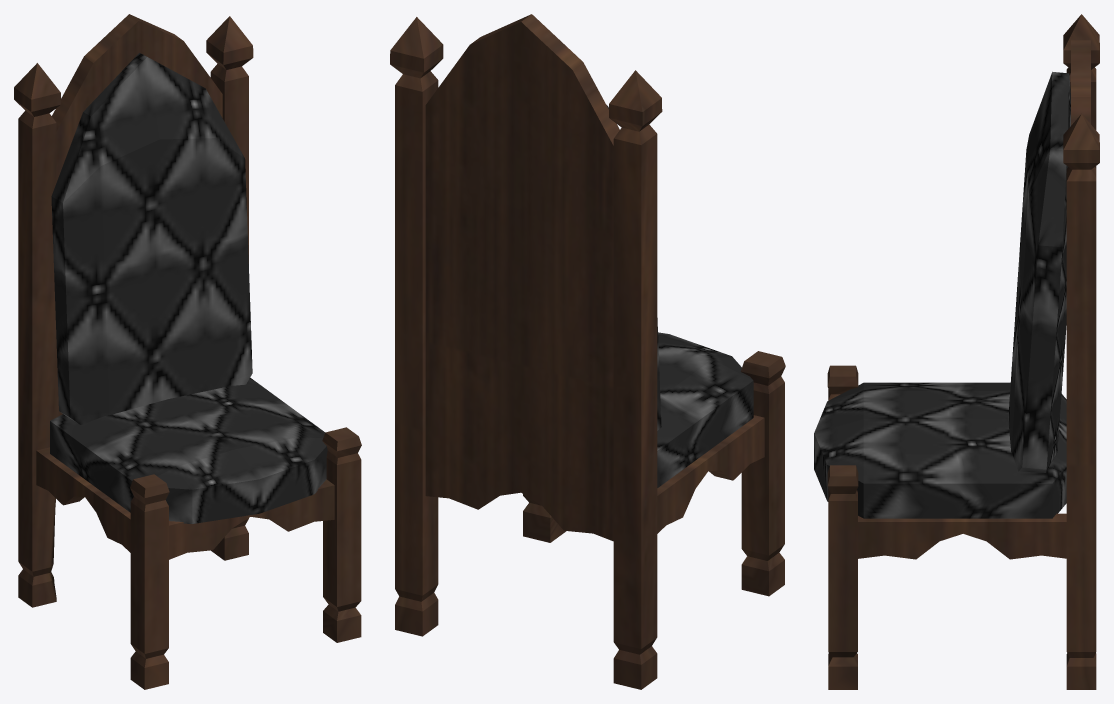
File: Chair1.fbx
3 renders of one model, left to right at view 1: azimuth 30°, elevation 25°; view 2: azimuth 150°, elevation 25°; view 3: azimuth 270°, elevation 25°, orthographic. The views are drawn at different scales.
Parts seen in each view (by area): view 1: Cube.006; view 2: Cube.006; view 3: Cube.006.
Boxes of the visible parts, x1,y1,x2,y2 form: Cube.006: (14,14,361,689); Cube.006: (390,14,785,689); Cube.006: (814,14,1099,689).
Size of the model in its own units: 85.15 by 205 by 89.37.
Materials: 1 (1 with a texture image).
